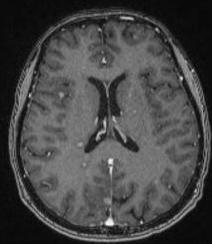Normal_Brain: (2, 1, 212, 244)
